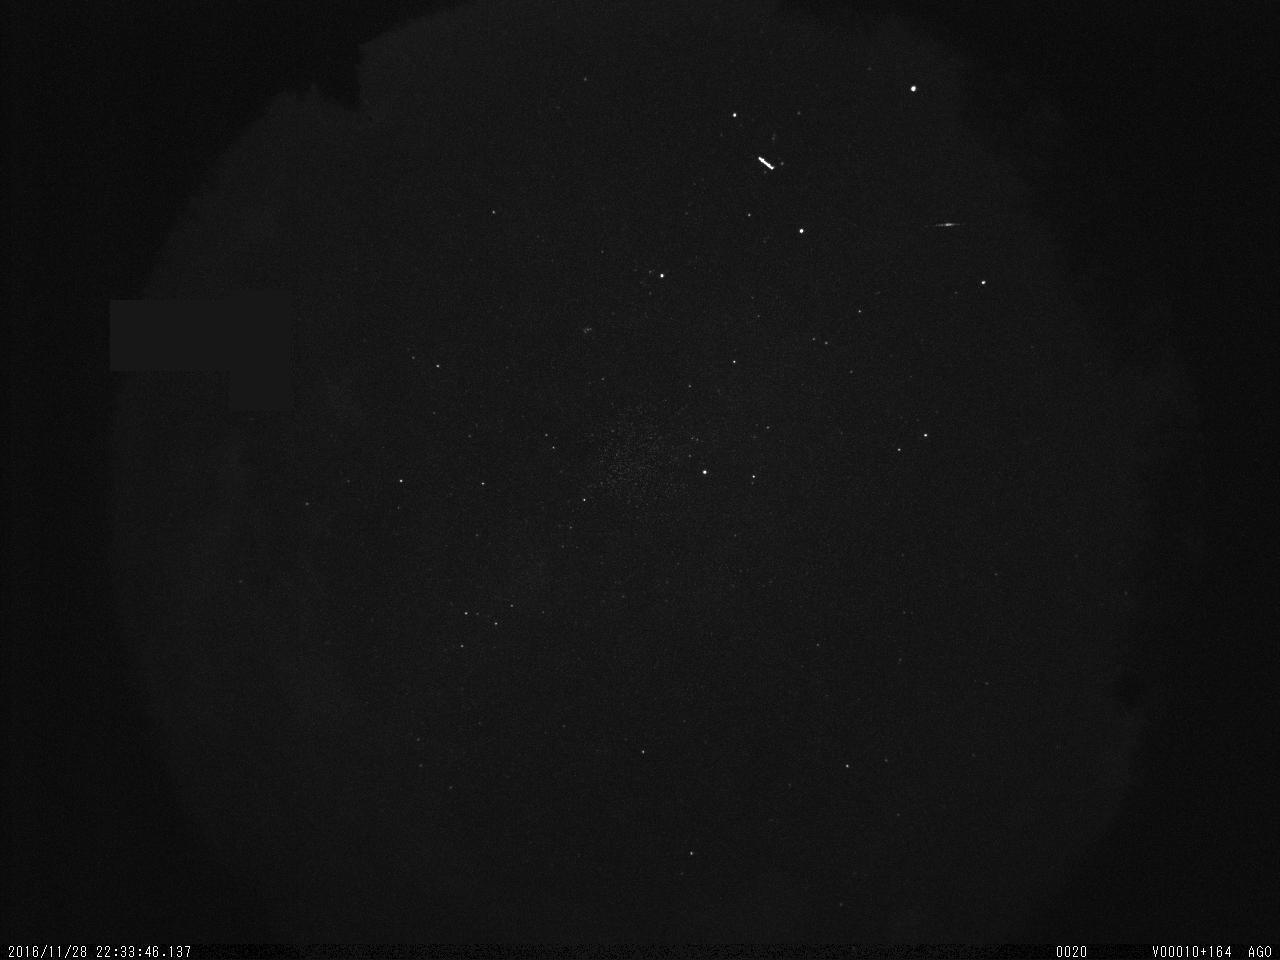meteor: (913, 214, 980, 236)
satelite: (751, 149, 778, 174)
